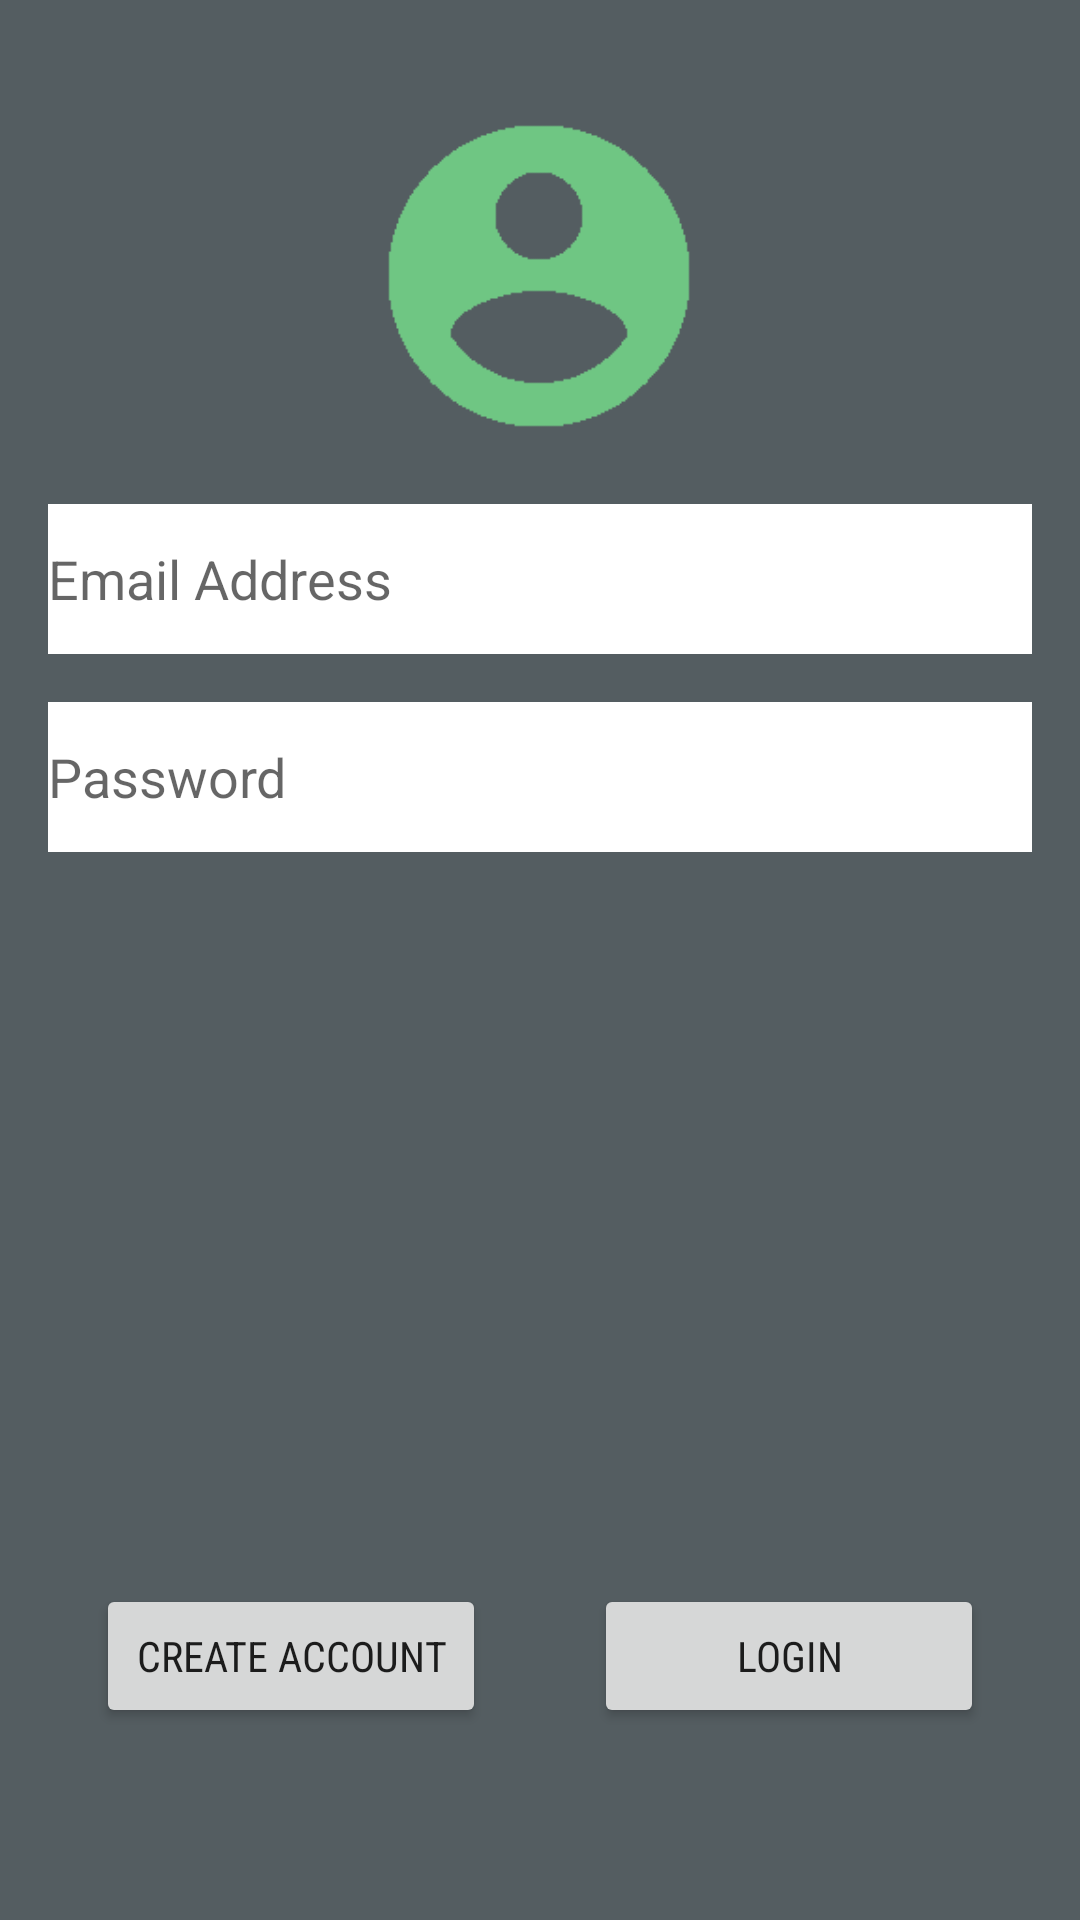

Screen size 1080px×1920px. Icon name, then its box in pixels as (x1, y1, x2, y2):
account circle: (388, 125, 690, 427)
